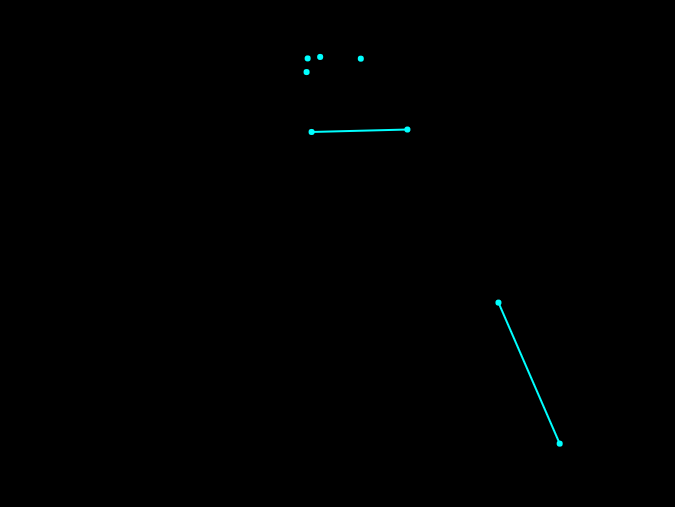warrior_2: (266, 40, 569, 453)
